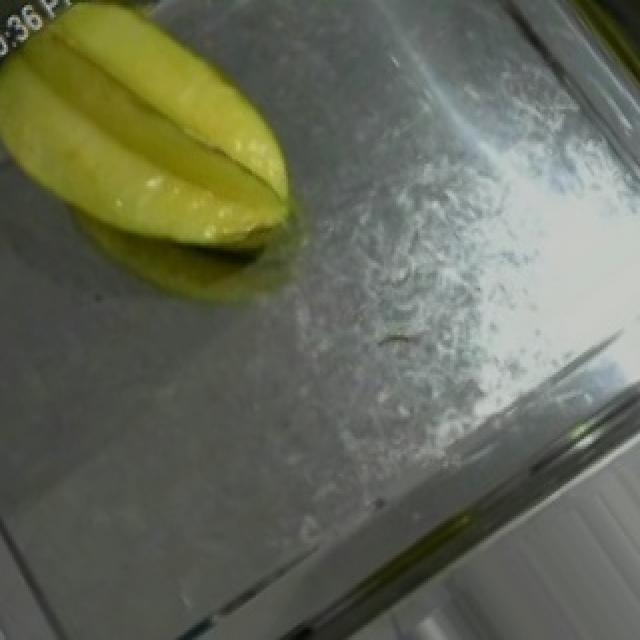fruit: (0, 0, 342, 310)
